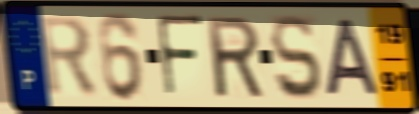6: (96, 9, 146, 105)
A: (322, 17, 383, 99)
F: (154, 13, 206, 102)
R: (38, 13, 101, 100), (204, 13, 266, 101)
S: (268, 12, 325, 103)
